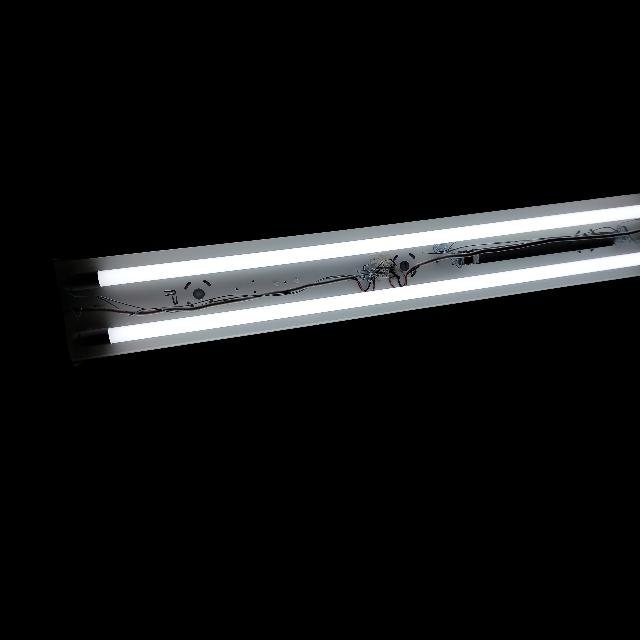Straight-Tube-Fluorescent-Lamp: (72, 187, 640, 363)
